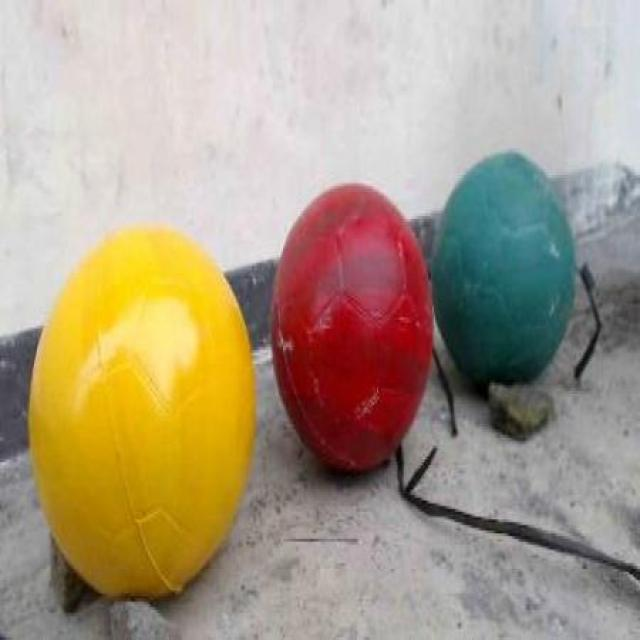buoy: (27, 225, 256, 601), (269, 179, 432, 472), (430, 146, 576, 390)
